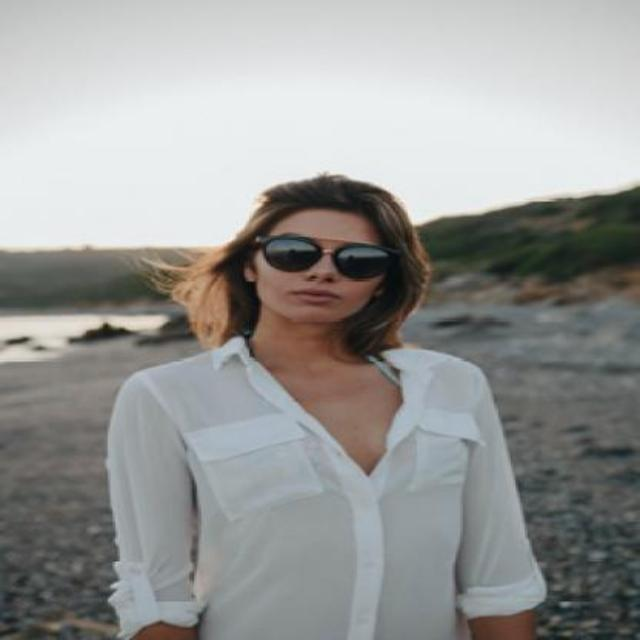sunglasses: (254, 234, 400, 278)
